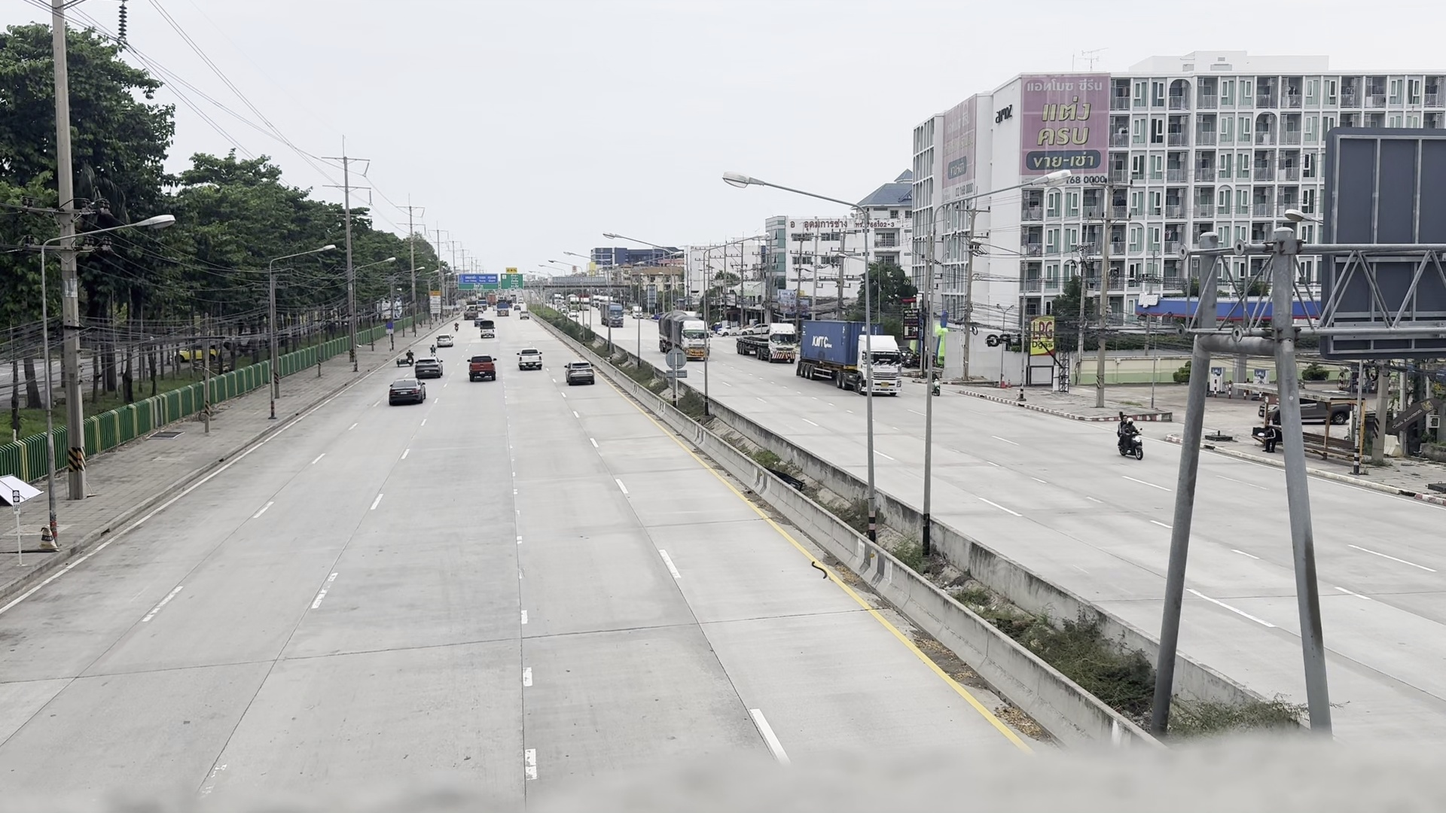car: (856, 351, 904, 396), (391, 367, 426, 404), (766, 323, 797, 363), (735, 324, 770, 359), (389, 377, 425, 405), (416, 352, 446, 379), (467, 354, 497, 380), (567, 362, 596, 387), (413, 355, 442, 378), (518, 346, 544, 370), (431, 333, 453, 349)
motorbike: (1116, 407, 1145, 461)
truck: (796, 319, 904, 386), (796, 319, 856, 382), (766, 322, 801, 362)
